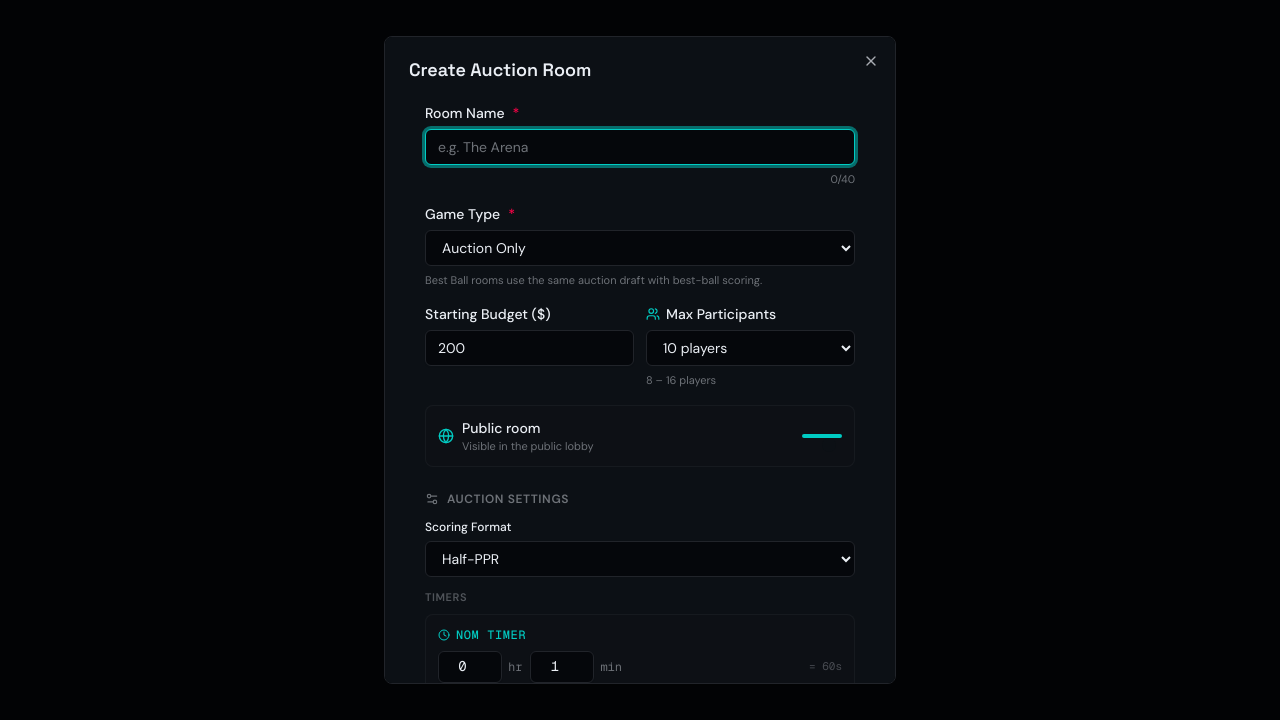
CreateRoomDialog competition mode + playoff teams selectors › rejects Best Ball / Cumulative with playoff teams set (must be 0)
Select "Best Ball" in the dropdown labelled "Game Type *" at (640, 248), box [425,230,855,266]
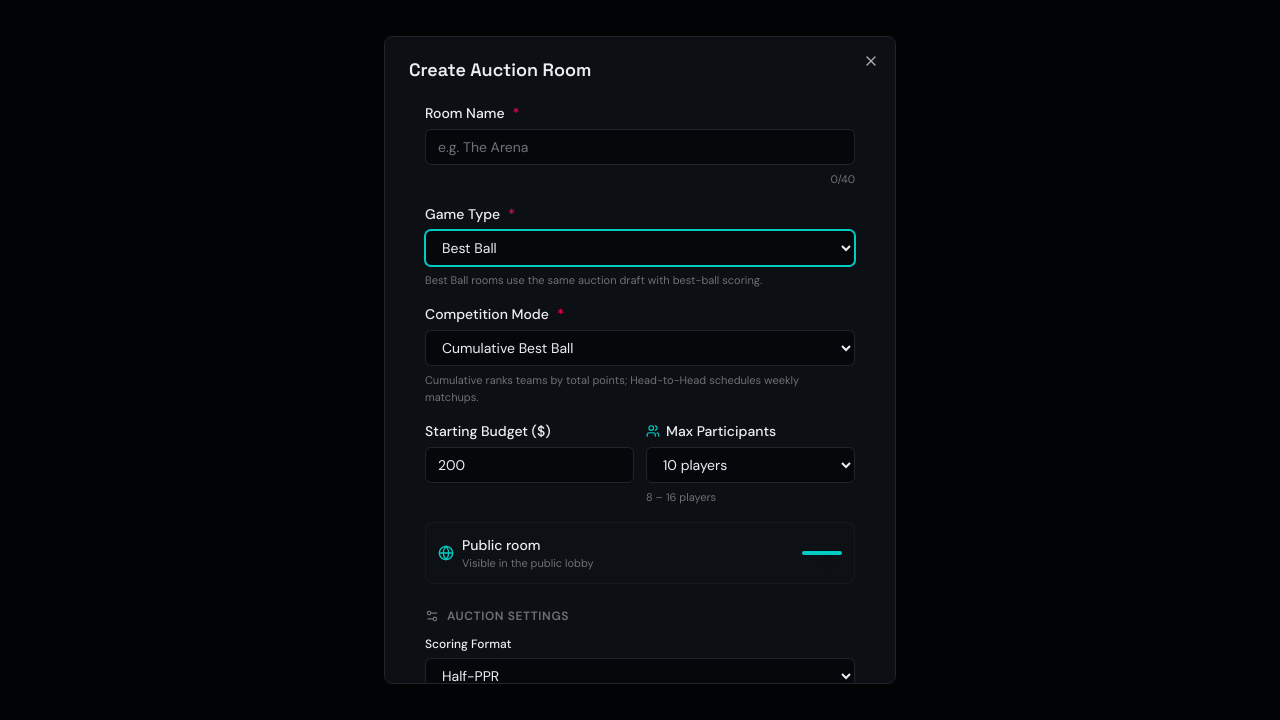
Select "Head-to-Head" in the dropdown labelled "Competition Mode *" at (640, 348), box [425,330,855,366]
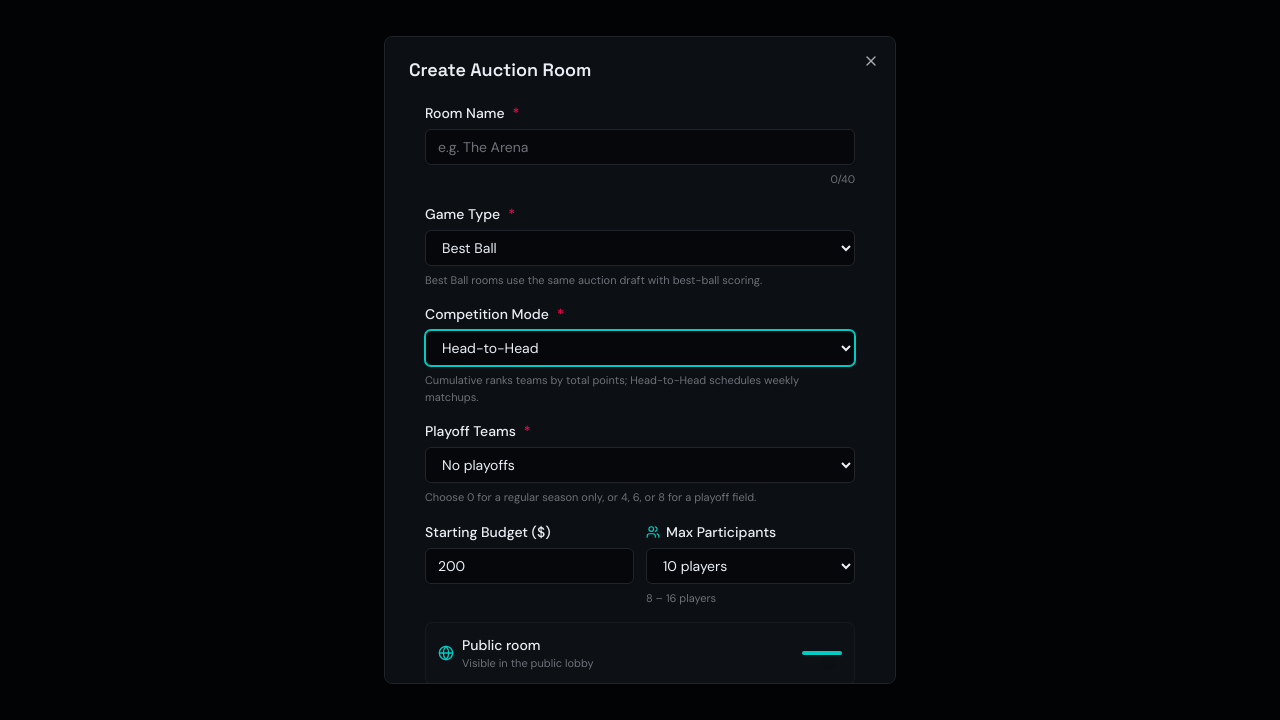
Select "4 teams" in the dropdown labelled "Playoff Teams *" at (640, 465), box [425,447,855,483]
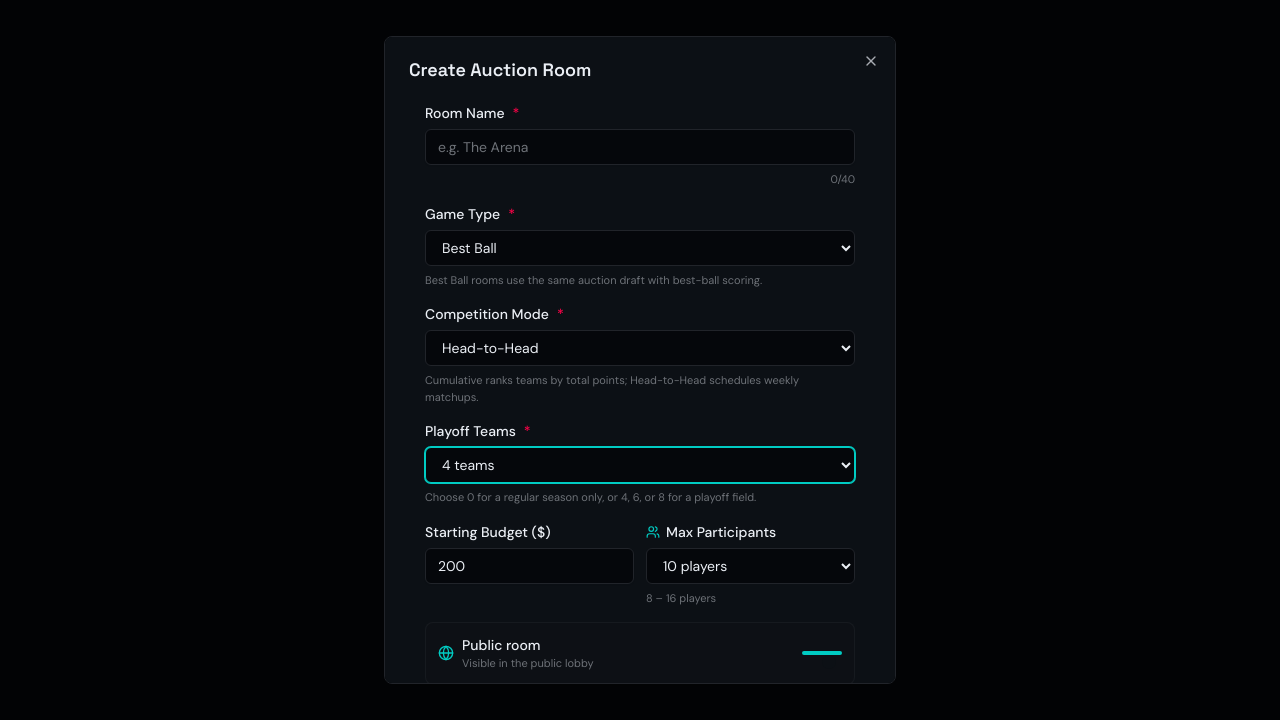
Select "Cumulative Best Ball" in the dropdown labelled "Competition Mode *" at (640, 348), box [425,330,855,366]
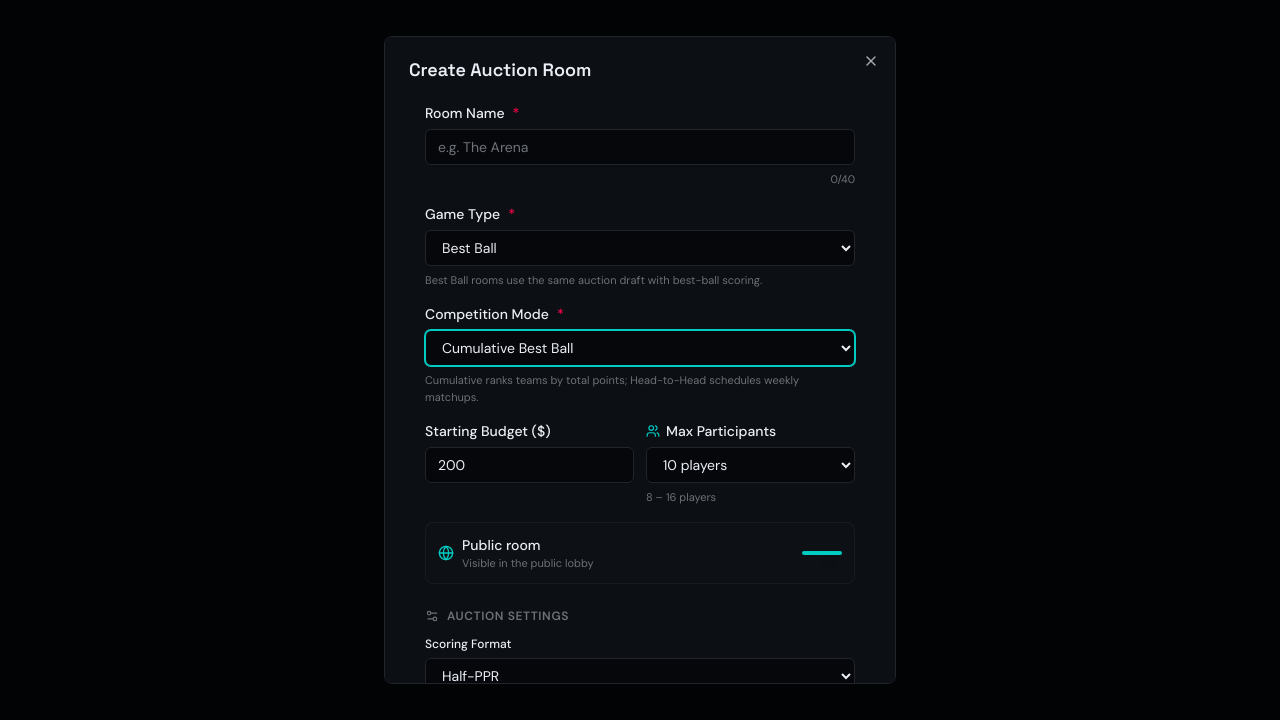
Type "Test Room" into the field labelled "Room Name *" at (640, 147), box [425,129,855,165]
(page scrolled)
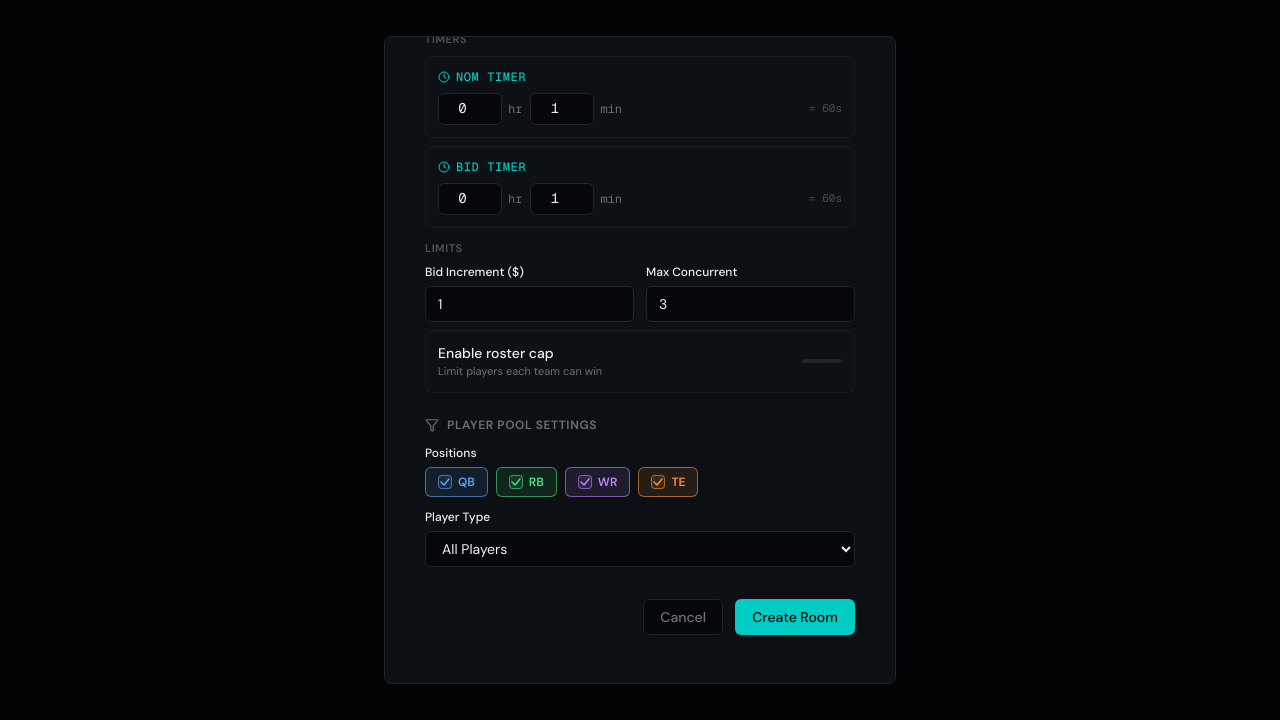
Click the button "Create Room" at (795, 616), box [735,598,855,634]
(page scrolled)
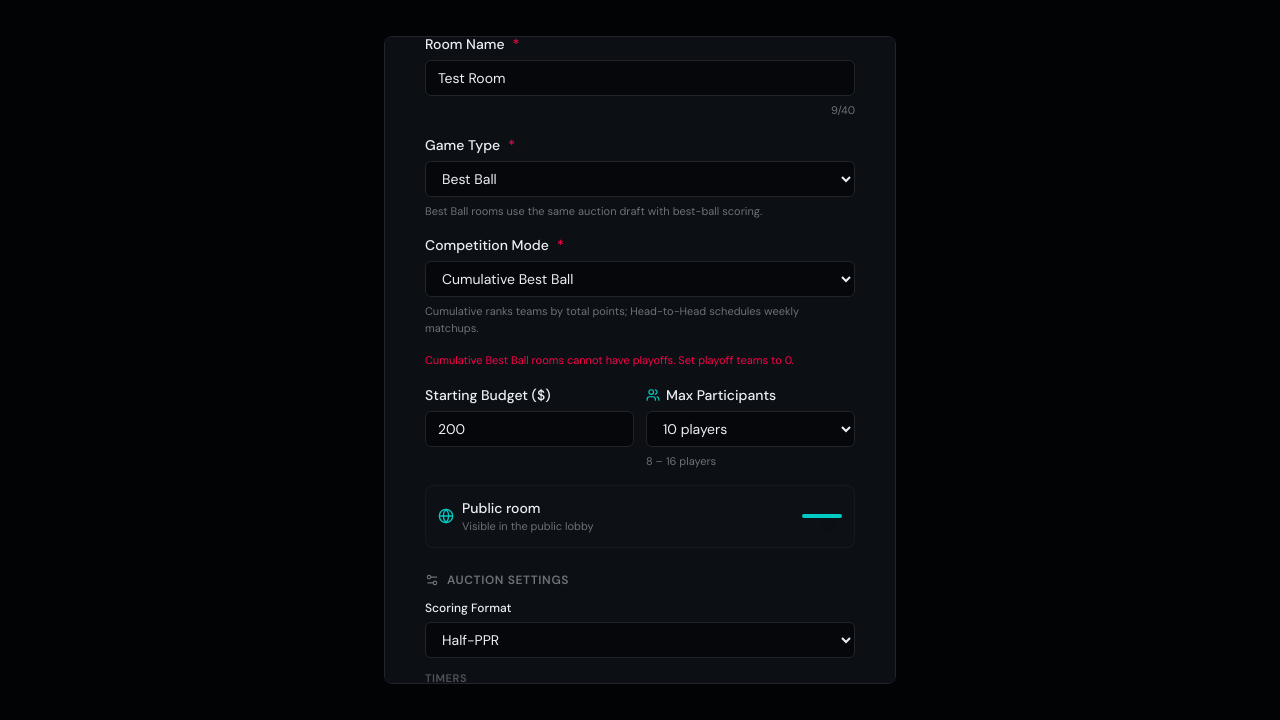
Expected: the message "Cumulative Best Ball rooms cannot have playoffs. Set playoff teams to 0." is shown, [425,352,855,368]
